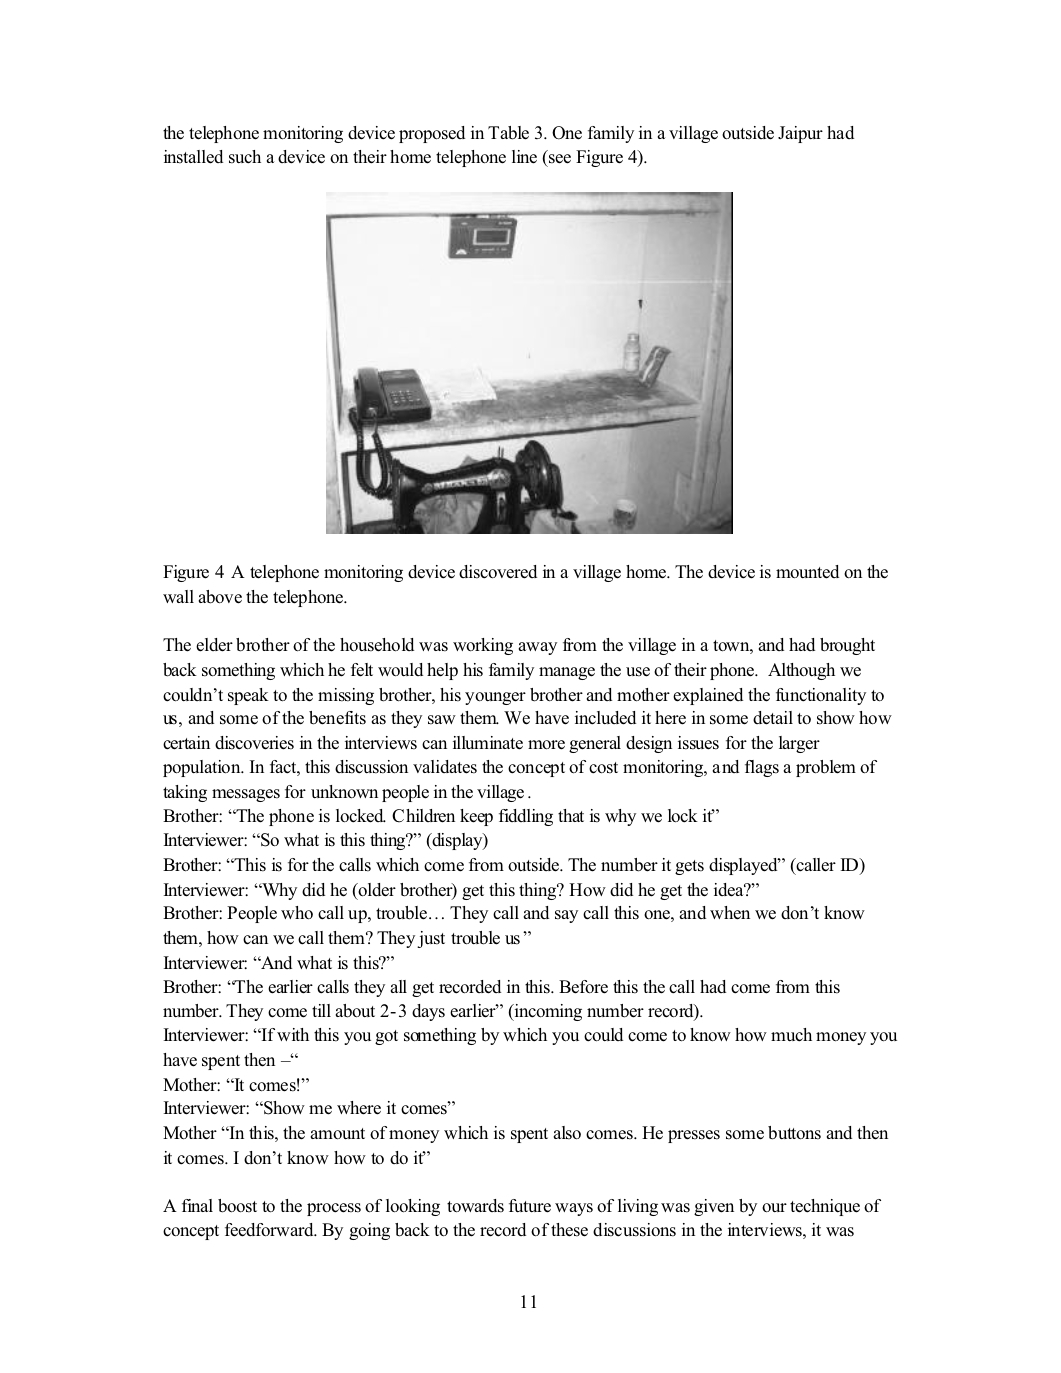figure: (327, 191, 732, 534)
